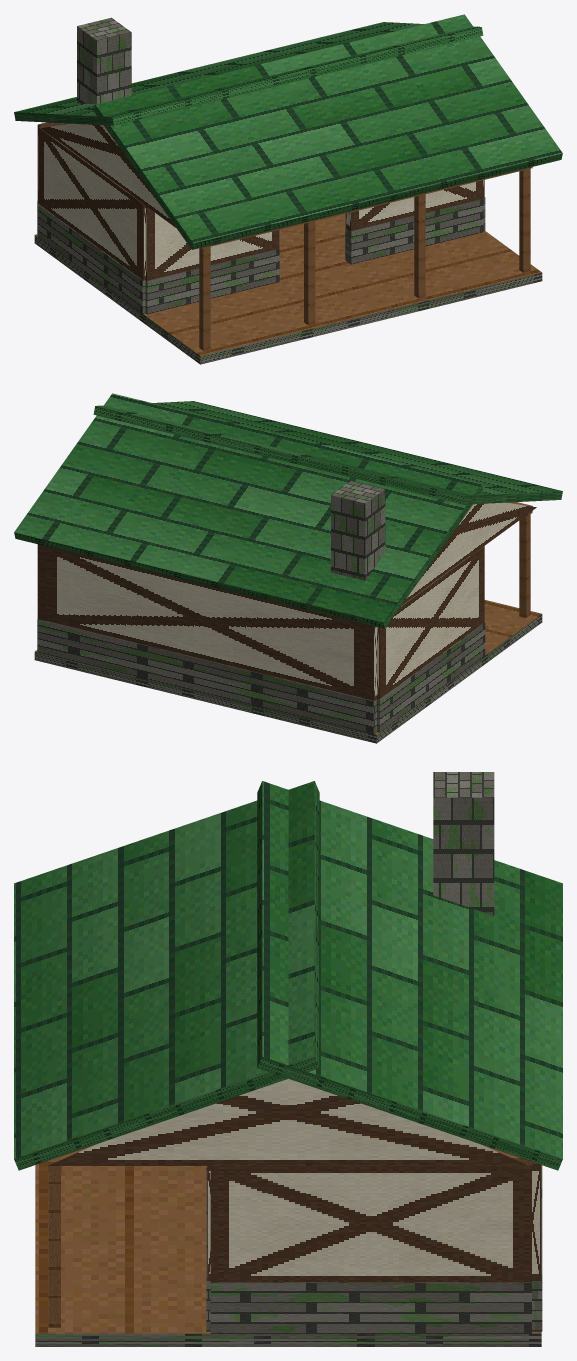
The model's file is casa_do_herbalista.glb.
3 renders of one model, top to bottom at view 1: azimuth 30°, elevation 25°; view 2: azimuth 150°, elevation 25°; view 3: azimuth 270°, elevation 25°, orthographic. The views are drawn at different scales.
Parts seen in each view (by area): view 1: Roof_Herbalist, Walls_Cottage, Floor_Herbalist; view 2: Roof_Herbalist, Walls_Cottage, Floor_Herbalist; view 3: Roof_Herbalist, Walls_Cottage, Floor_Herbalist.
Part boxes in pixels (left/top/right/bottom): Roof_Herbalist: left=14, top=14, right=562, bottom=249; Walls_Cottage: left=37, top=122, right=532, bottom=350; Floor_Herbalist: left=34, top=214, right=542, bottom=364; Roof_Herbalist: left=14, top=393, right=562, bottom=628; Walls_Cottage: left=37, top=502, right=532, bottom=734; Floor_Herbalist: left=34, top=600, right=542, bottom=743; Roof_Herbalist: left=14, top=772, right=562, bottom=1170; Walls_Cottage: left=48, top=1156, right=542, bottom=1333; Floor_Herbalist: left=35, top=1144, right=541, bottom=1346.
Size of the model in its own units: 13.4 by 7.7 by 11.28.
Materials: 1 (1 with a texture image).
